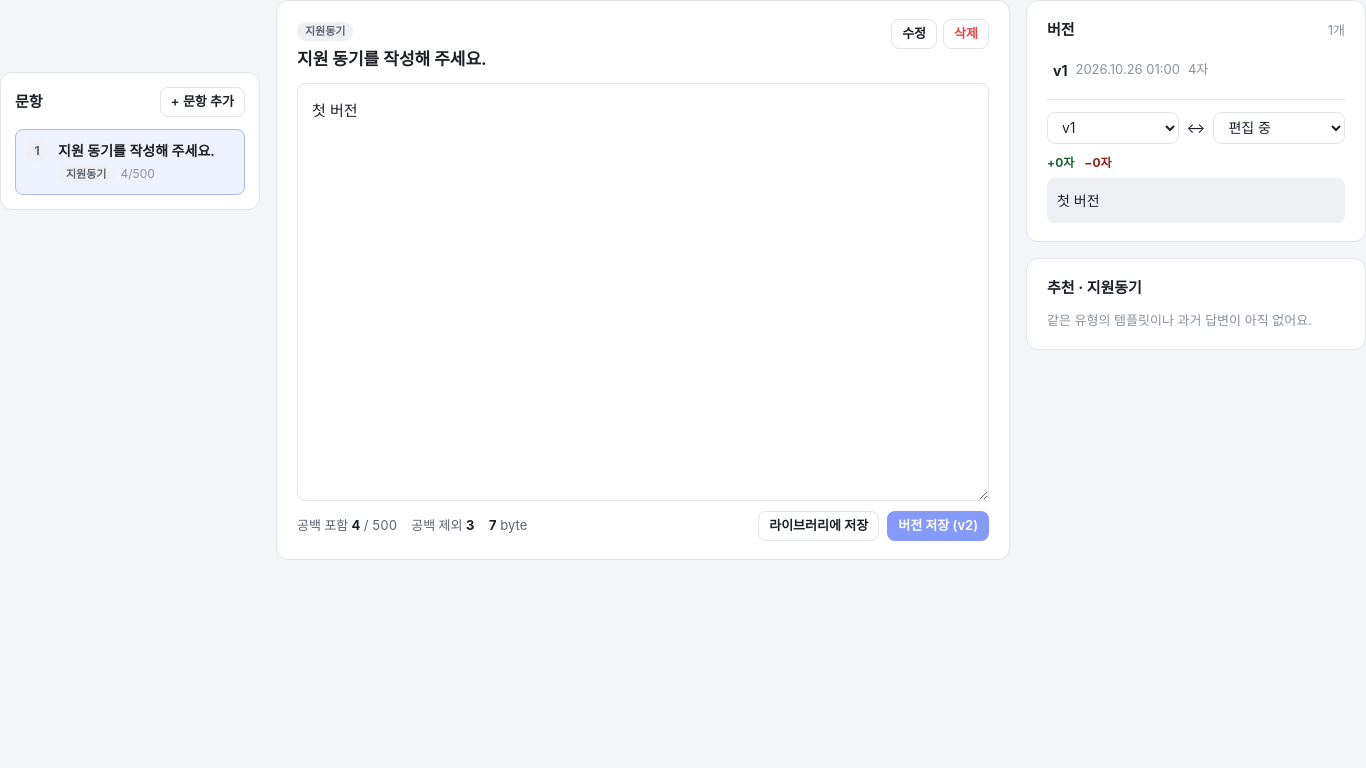
Scenario: 자기소개서 편집기 › 자동 임시저장 › 임시저장이 실패하면 실패했다고 보여준다
Type "!" into the text box named "답변" at (643, 292), box [297, 83, 989, 501]
Wait 1000 ms
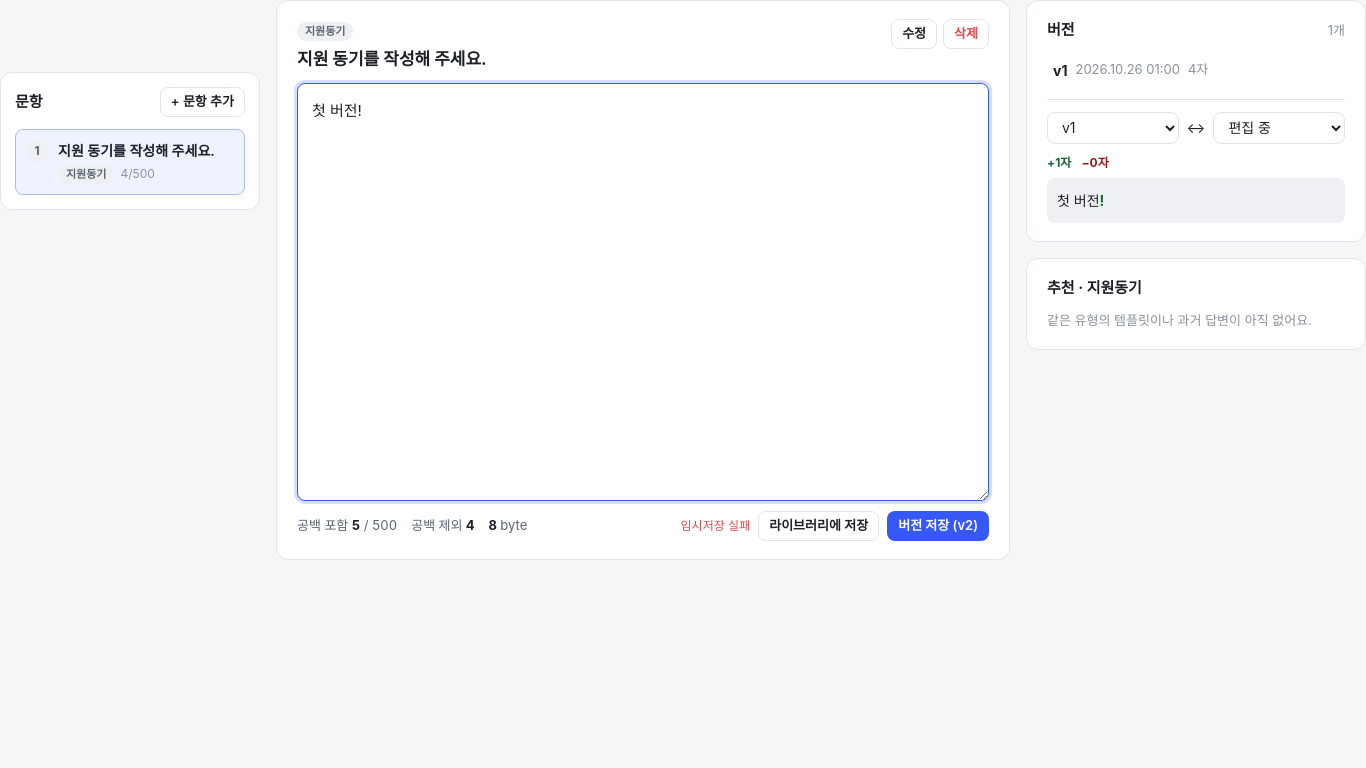
Result: the text "임시저장 실패" is shown at [681, 517, 750, 535]
